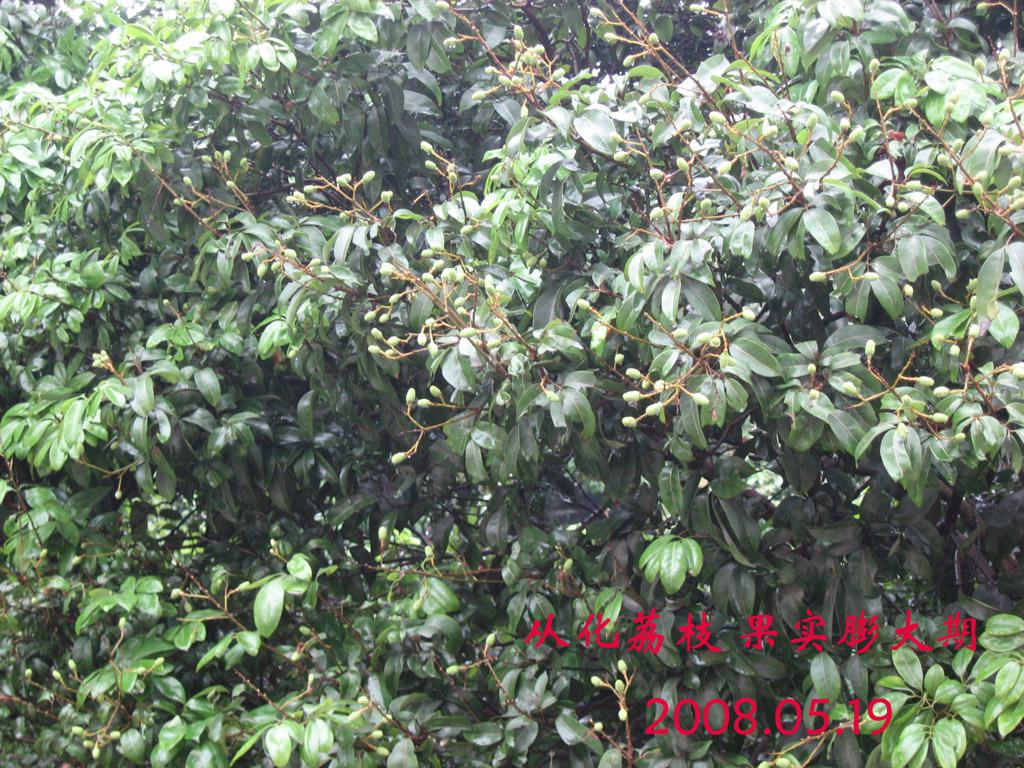果实发育期: (645, 401, 664, 417), (739, 203, 754, 223), (389, 449, 408, 464), (691, 392, 710, 407), (914, 376, 937, 388), (622, 391, 643, 404), (404, 387, 419, 405), (649, 206, 664, 224), (828, 90, 846, 105), (457, 325, 476, 339), (708, 111, 727, 125), (932, 385, 951, 399), (430, 383, 446, 399), (784, 157, 801, 172), (625, 367, 644, 380), (676, 156, 691, 172), (950, 138, 964, 155), (257, 262, 270, 280), (929, 412, 948, 424), (621, 414, 638, 427), (360, 170, 377, 183), (901, 97, 918, 110), (669, 328, 689, 339), (428, 340, 440, 358), (363, 308, 378, 322), (420, 139, 434, 154), (551, 68, 566, 82), (639, 90, 653, 105), (808, 270, 827, 281), (865, 339, 876, 358), (700, 197, 713, 213), (719, 158, 732, 174), (445, 665, 462, 677), (280, 249, 297, 261), (975, 58, 987, 75), (576, 297, 590, 311), (742, 307, 756, 321), (415, 332, 428, 347), (371, 327, 384, 342), (900, 394, 913, 409), (498, 75, 513, 88), (416, 398, 432, 410), (696, 331, 712, 343), (807, 113, 819, 129), (348, 711, 364, 723), (513, 25, 525, 41), (460, 224, 477, 235), (929, 279, 943, 292), (366, 342, 381, 354), (388, 293, 403, 305), (485, 338, 503, 348), (936, 154, 951, 166), (375, 745, 390, 757), (241, 250, 256, 262), (443, 37, 458, 49), (609, 133, 624, 145), (604, 32, 619, 44), (386, 335, 402, 346), (928, 308, 944, 319), (420, 247, 436, 258), (868, 57, 879, 73), (614, 151, 630, 162), (648, 168, 665, 178), (421, 270, 434, 283), (948, 344, 961, 357), (484, 634, 497, 647), (943, 102, 956, 115), (525, 255, 539, 267), (90, 746, 102, 760), (335, 176, 349, 188), (622, 54, 636, 66), (472, 91, 488, 101), (647, 33, 660, 45), (379, 264, 393, 275), (886, 194, 897, 208), (107, 731, 122, 741), (453, 294, 466, 305), (425, 159, 438, 170), (380, 191, 391, 204), (455, 306, 469, 316), (808, 363, 818, 377), (302, 184, 316, 194), (71, 726, 84, 736), (863, 272, 879, 280), (520, 105, 529, 119), (51, 670, 62, 681), (898, 201, 909, 212), (23, 668, 33, 680), (448, 172, 458, 184), (183, 175, 193, 187), (309, 257, 321, 267), (533, 44, 545, 54), (68, 658, 77, 671), (223, 149, 232, 162), (200, 155, 213, 164), (379, 314, 390, 324), (319, 266, 331, 275)
